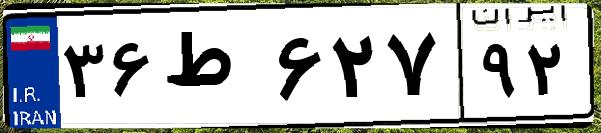2: (330, 28, 385, 110), (525, 38, 570, 115)
3: (57, 26, 110, 100)
6: (270, 28, 330, 110), (110, 28, 158, 98)
7: (385, 28, 445, 110)
9: (475, 38, 525, 113)
ط: (158, 20, 270, 120)
